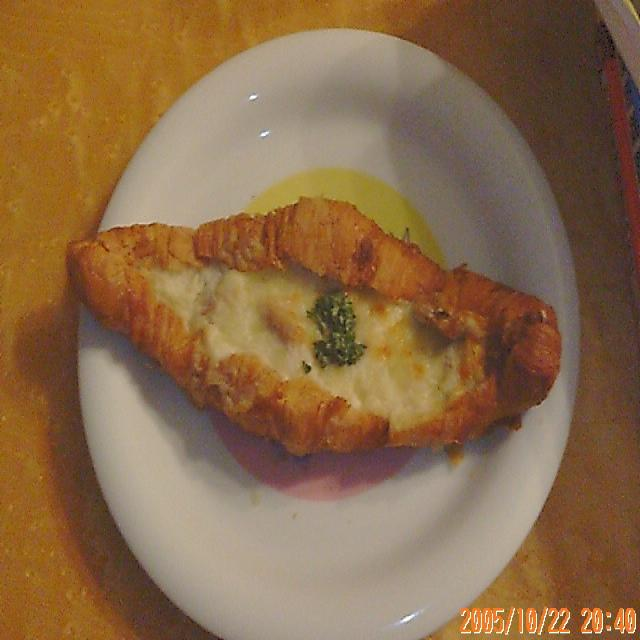三明治: (44, 171, 584, 501)
